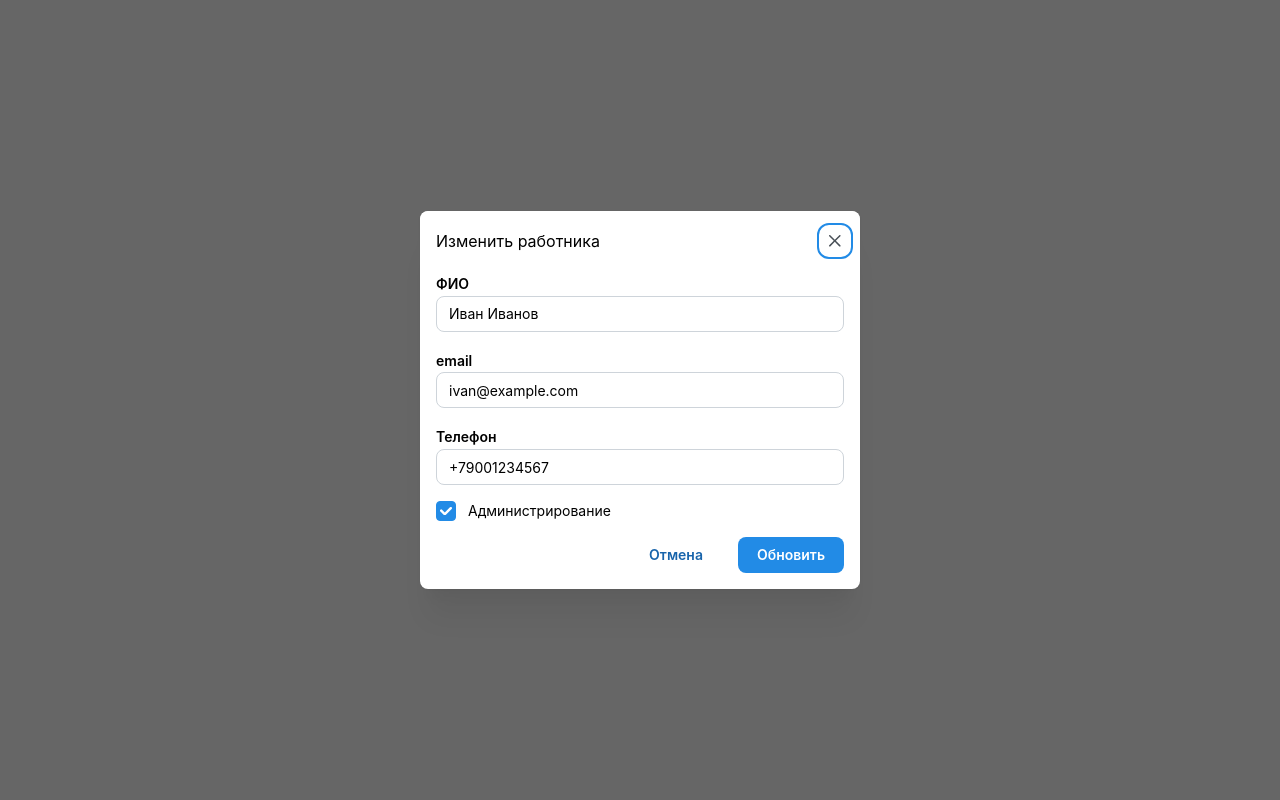
Test case: UpdateWorkersModal › показывает ошибки валидации при пустом вводе
Note: Очищаем поля
Clear the field labelled "ФИО" at [640, 314], box x1=436 y1=296 x2=844 y2=332
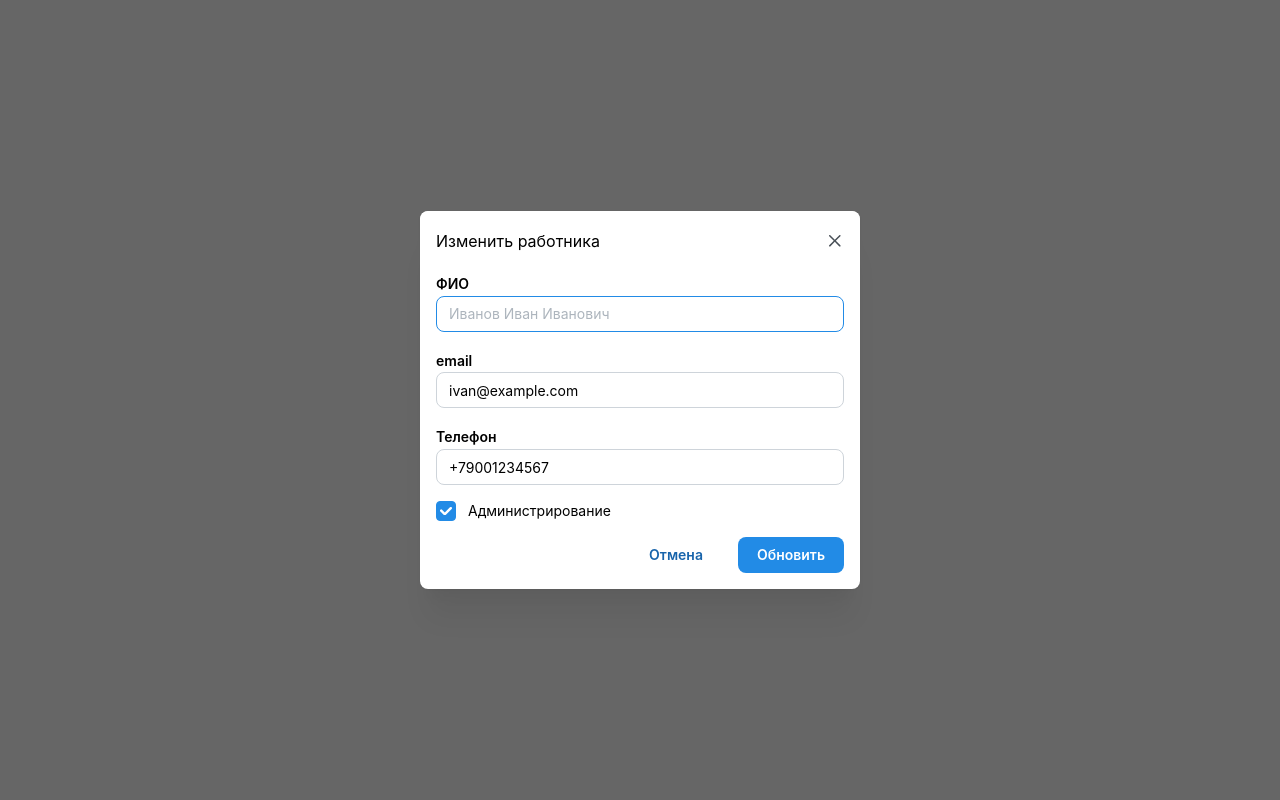
Clear the field labelled "email" at [640, 390], box x1=436 y1=372 x2=844 y2=408
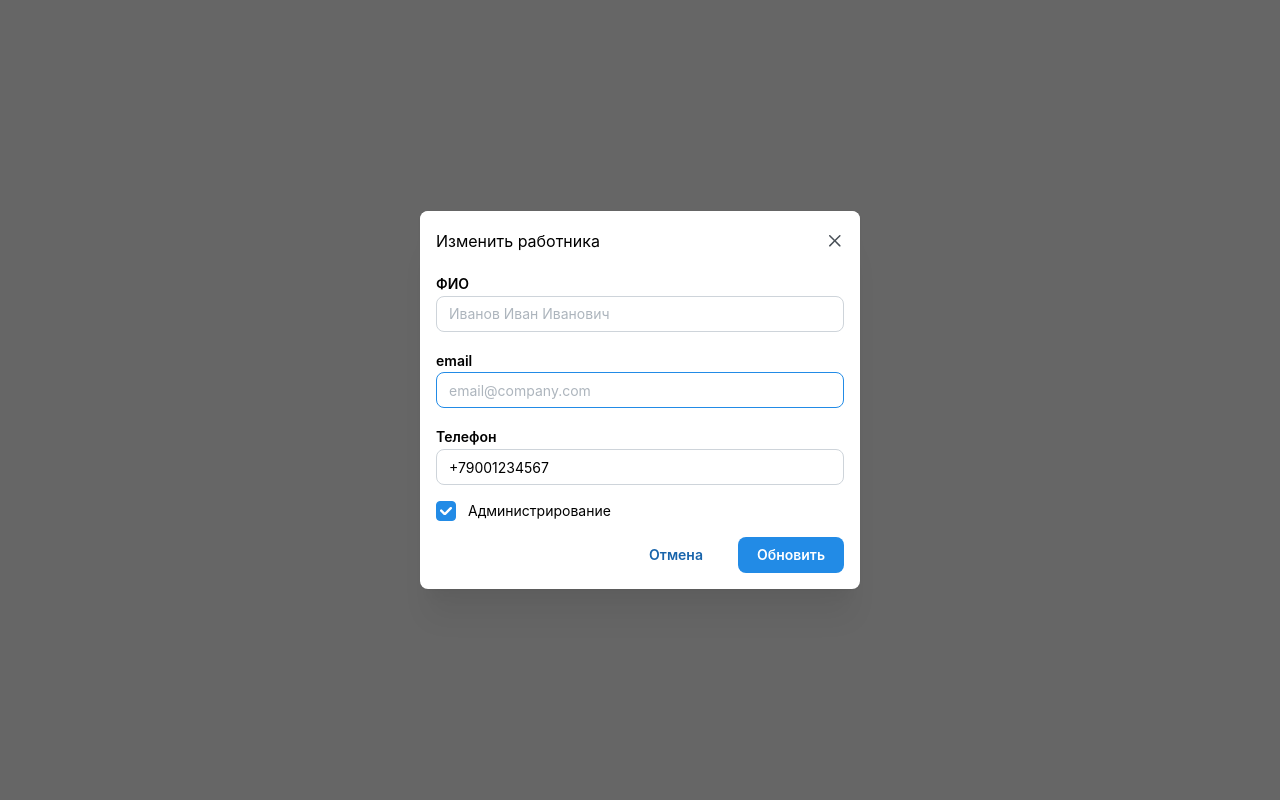
Note: Отправляем форму
Click the button "Обновить" at [791, 555], box x1=738 y1=537 x2=844 y2=573
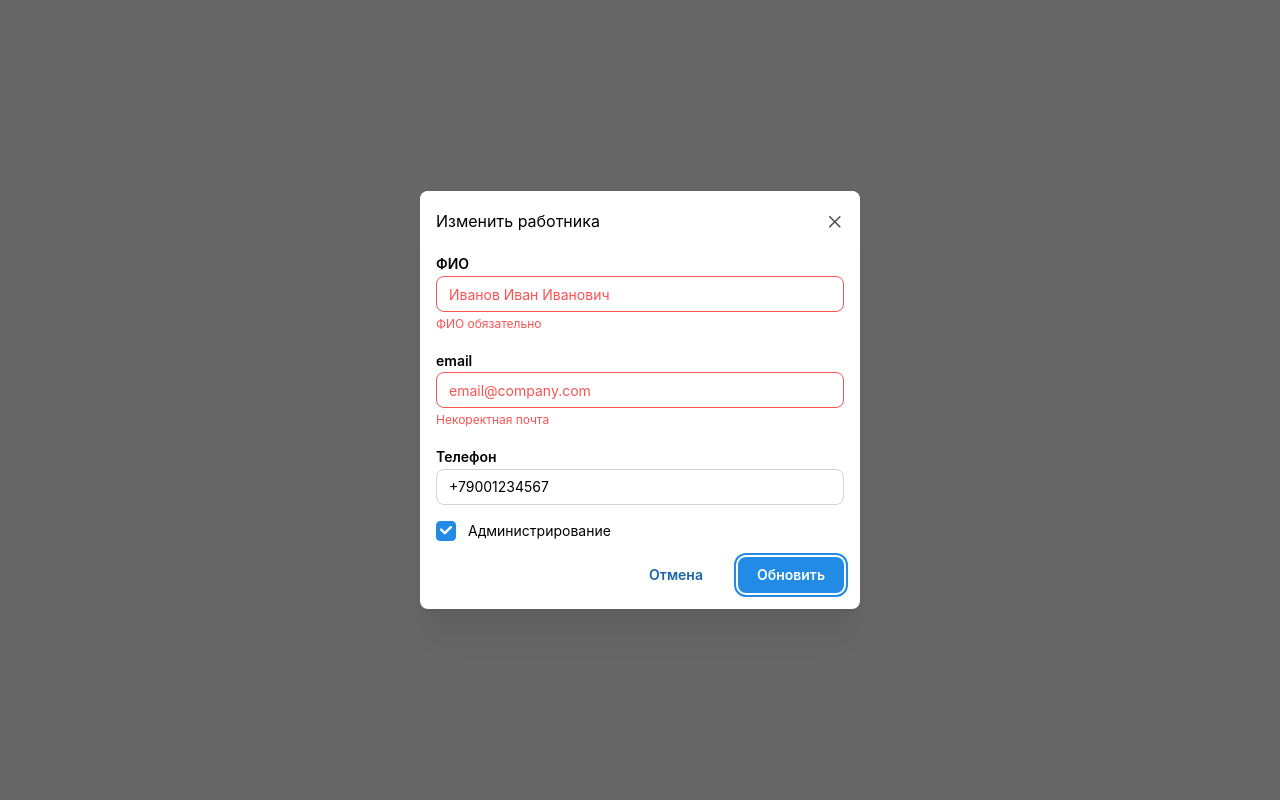
Expected: the text "ФИО обязательно" is shown, x1=436 y1=316 x2=541 y2=331
Expected: the text "Некоректная почта" is shown, x1=436 y1=412 x2=549 y2=427
